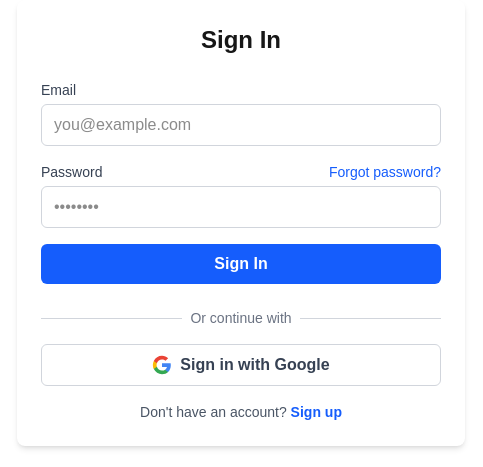
Test: LoginForm › Form Submission - Success › should show loading state during sign in
The width and height of the screenshot is (483, 467).
Type "test@example.com" into the field labelled "Email" at (241, 125), box [41,104,441,146]
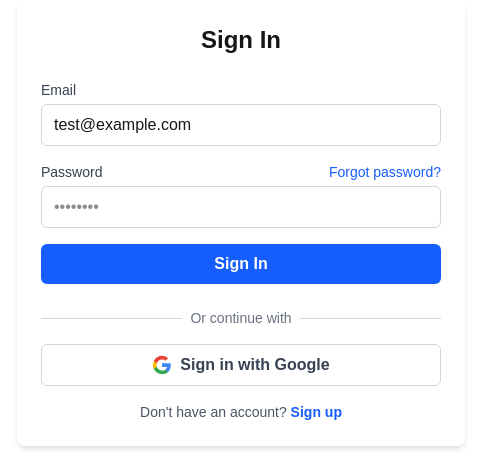
Type "password123" into the password field labelled "Password" at (241, 207), box [41,186,441,228]
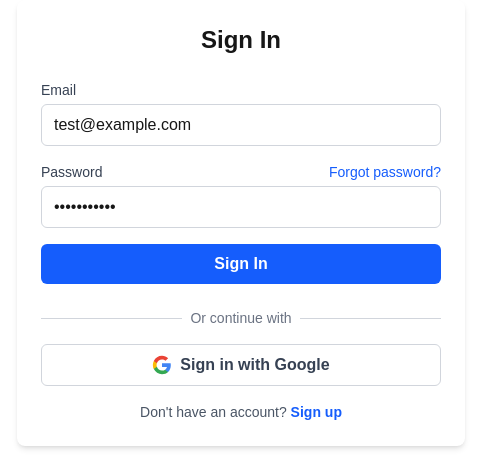
Click the button "Sign In" at (241, 264), box [41,244,441,284]
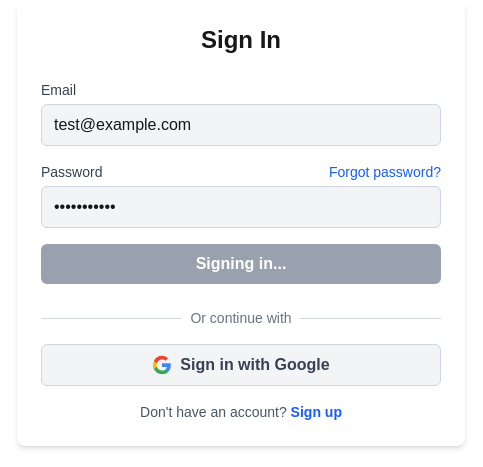
expect the field labelled "Email" is disabled: met, box [41,104,441,146]
expect the button "Signing in..." is disabled: met, box [41,244,441,284]
